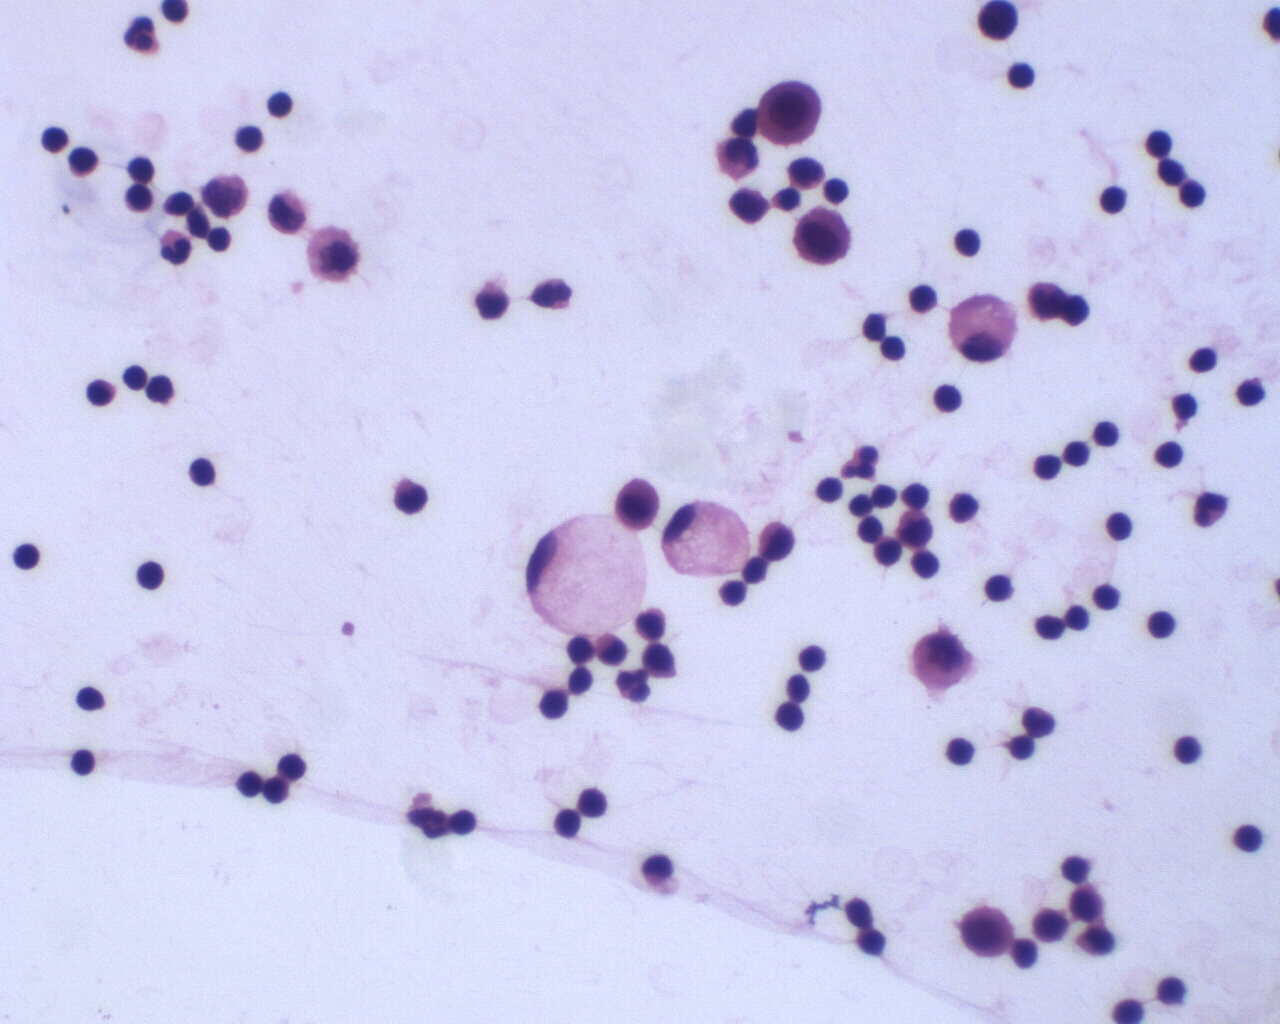ab: (959, 903, 1015, 960), (897, 508, 937, 554), (759, 518, 796, 563)
histo: (522, 516, 655, 635), (661, 498, 757, 581), (942, 285, 1020, 370)
lymph: (1227, 815, 1272, 860), (940, 731, 975, 776), (183, 453, 224, 489), (1184, 345, 1223, 380), (1095, 182, 1132, 216), (1027, 448, 1062, 485), (1145, 608, 1180, 644), (1154, 438, 1187, 474), (1004, 57, 1038, 93), (125, 152, 161, 185), (136, 558, 169, 594), (931, 379, 963, 415), (1106, 509, 1136, 546), (979, 571, 1015, 602), (540, 684, 569, 721), (1172, 734, 1206, 765), (554, 806, 582, 842), (776, 701, 808, 734), (954, 225, 983, 257), (13, 540, 41, 574), (40, 125, 71, 155), (265, 89, 298, 117), (69, 747, 98, 777), (121, 364, 149, 391)
meso: (753, 74, 827, 149), (791, 203, 853, 266)
neutro: (120, 15, 164, 60), (1191, 490, 1233, 528), (155, 228, 193, 267)
